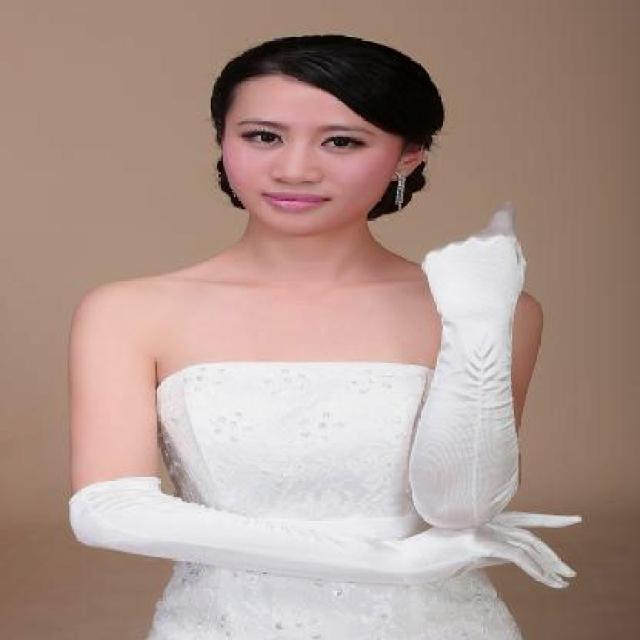face_nomask: (214, 103, 377, 239)
hand_glove: (416, 511, 582, 591), (423, 202, 528, 326)
head_nohelmet: (205, 29, 449, 106)
person: (54, 18, 555, 640)
